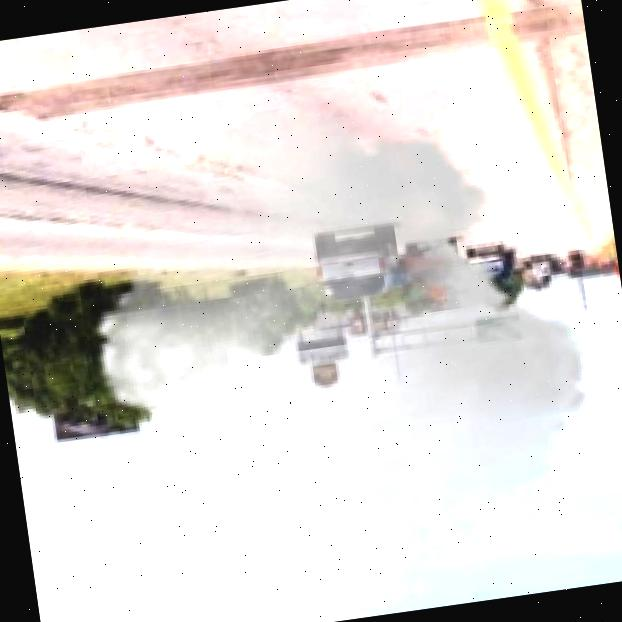smoke: (47, 68, 622, 622)
